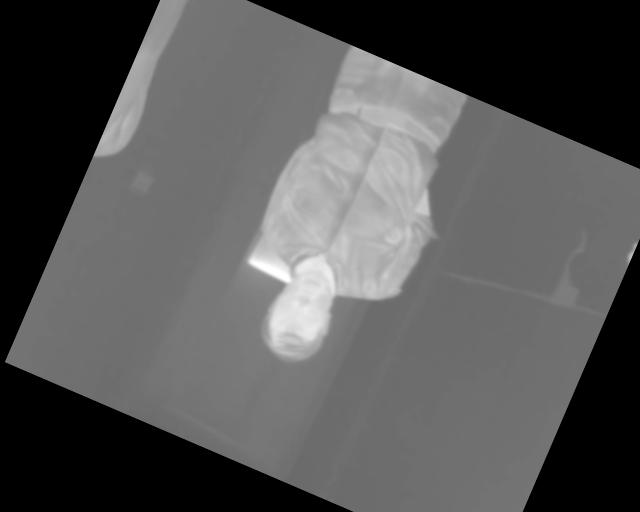face: (250, 259, 350, 374)
